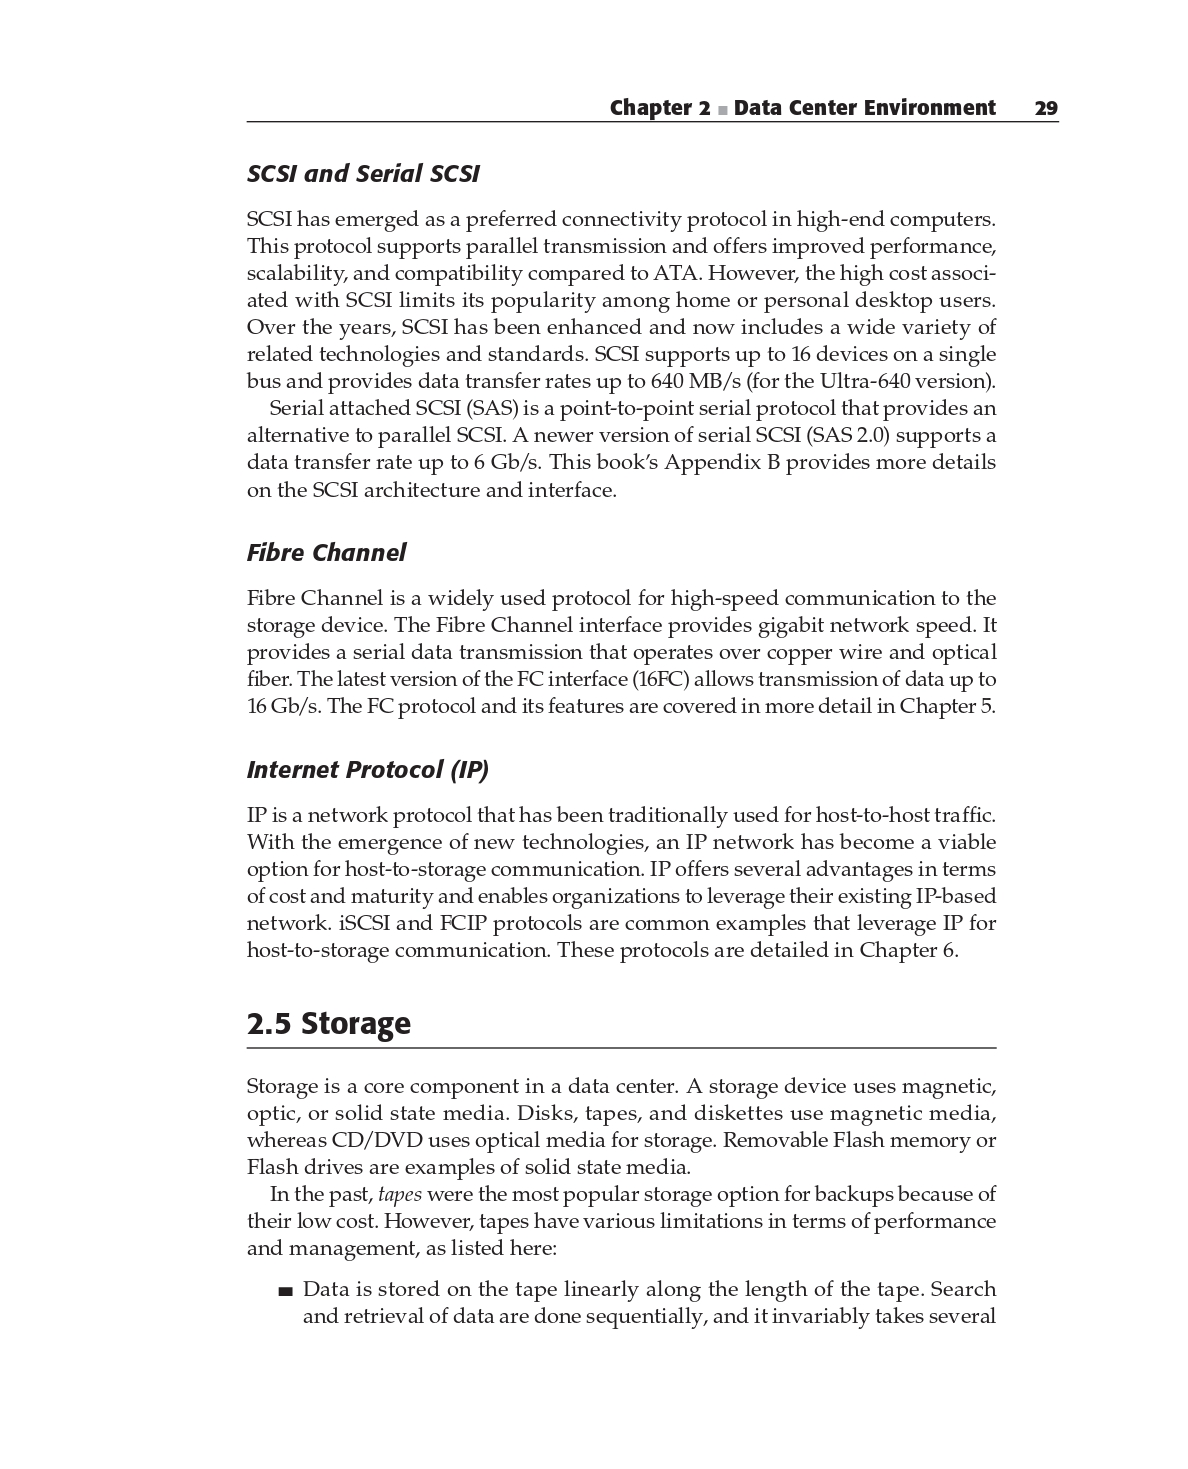Paragraph: (242, 207, 1001, 394), (242, 804, 1007, 970), (245, 578, 1007, 721), (245, 1075, 1001, 1177), (242, 400, 996, 502), (242, 1183, 996, 1259), (290, 1270, 1001, 1328), (611, 91, 1066, 131), (240, 748, 497, 789), (242, 152, 493, 193), (236, 1001, 418, 1046), (249, 535, 415, 570)
